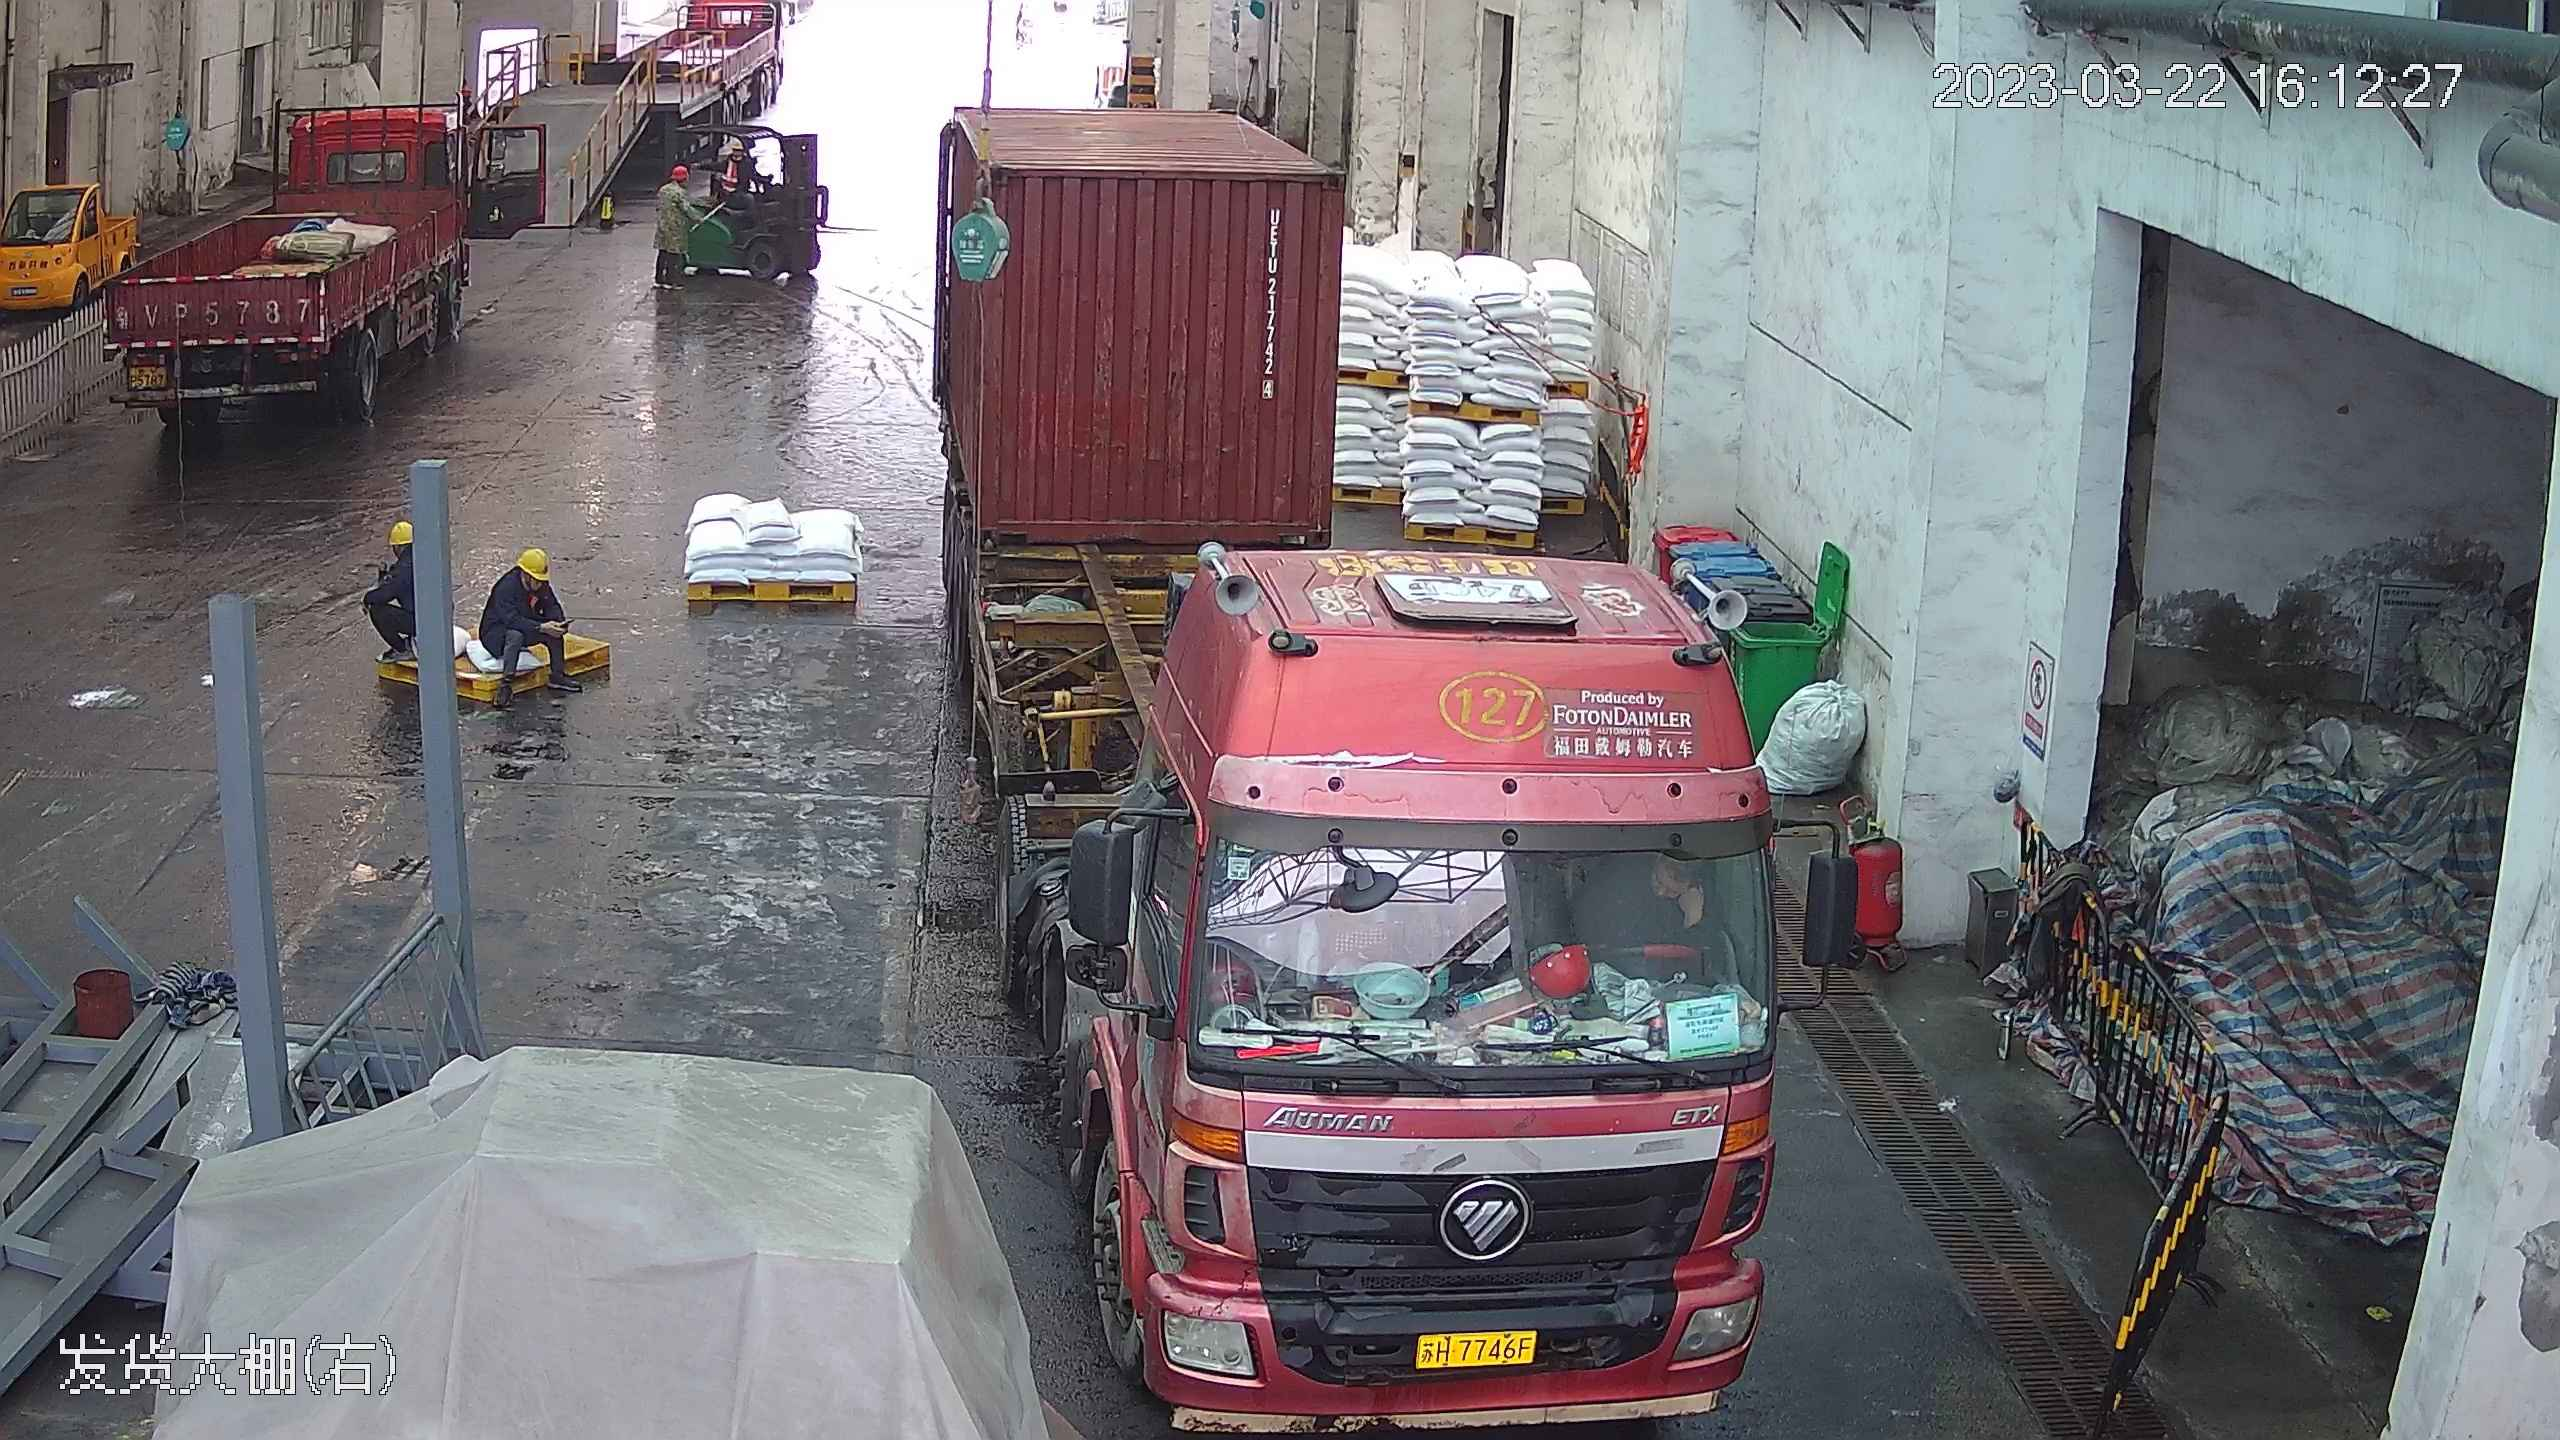head: (490, 543, 554, 606), (373, 515, 419, 581), (654, 168, 695, 214)
helmet: (515, 543, 549, 576), (386, 517, 413, 541), (669, 164, 689, 183), (730, 138, 743, 150)
people: (477, 537, 563, 703), (363, 514, 425, 691), (652, 164, 696, 293)
truck: (917, 23, 1810, 1432), (73, 33, 479, 415)
